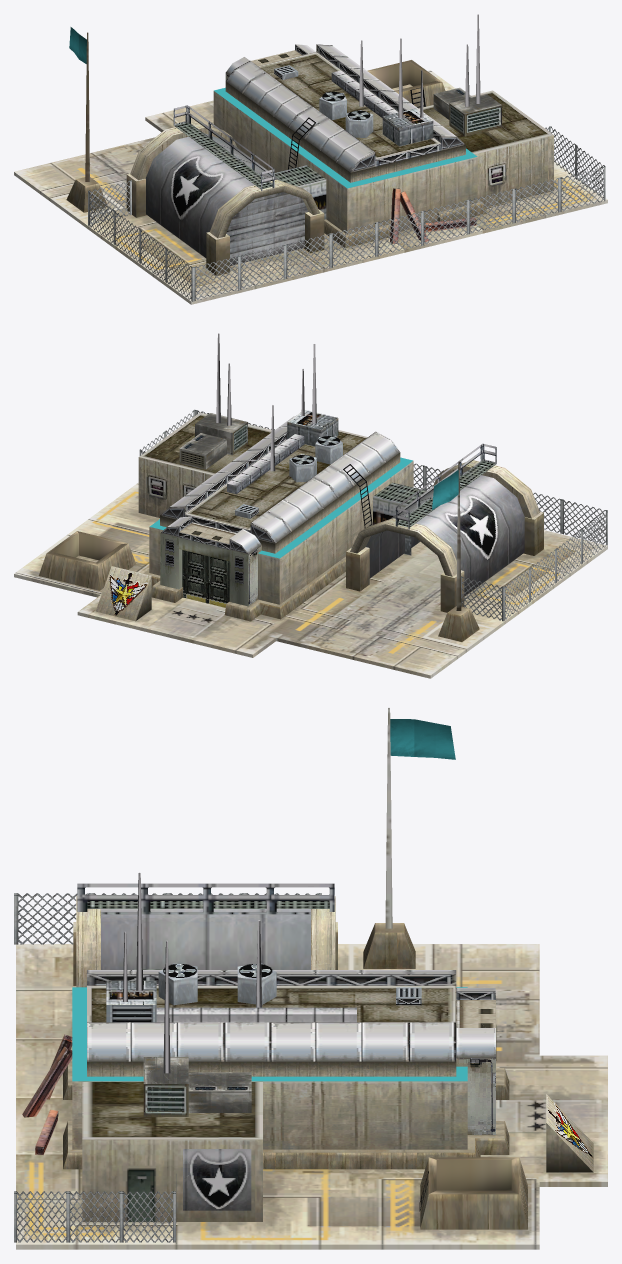
The model's file is headquarters.glb.
3 views of the same model, one above another, from view 1: azimuth 30°, elevation 25°; view 2: azimuth 150°, elevation 25°; view 3: azimuth 270°, elevation 25° (orthographic). The views are drawn at different scales.
Parts seen in each view (by area): view 1: BUILDING (×17), FENCE, GIRDERS, HOUSECOLOR01; view 2: BUILDING (×22), FENCE, GIRDERS, HOUSECOLOR01; view 3: BUILDING (×18), FENCE, GIRDERS, HOUSECOLOR01, HOUSECOLOR04, HOUSECOLOR05.
Boxes of the visible parts, <box> form: BUILDING (×17): <box>14,14,607,304</box>; FENCE: <box>88,126,605,301</box>; GIRDERS: <box>173,87,425,191</box>; HOUSECOLOR01: <box>214,87,477,188</box>; BUILDING (×22): <box>14,333,607,678</box>; FENCE: <box>139,409,607,621</box>; GIRDERS: <box>343,443,496,529</box>; HOUSECOLOR01: <box>149,457,412,558</box>; BUILDING (×18): <box>16,707,607,1249</box>; FENCE: <box>14,893,321,1242</box>; GIRDERS: <box>77,883,428,1211</box>; HOUSECOLOR01: <box>72,987,467,1081</box>; HOUSECOLOR04: <box>390,719,414,756</box>; HOUSECOLOR05: <box>414,719,435,757</box>.
Size of the model in its own units: 130 by 52.14 by 108.
33 materials, 32 textured.
